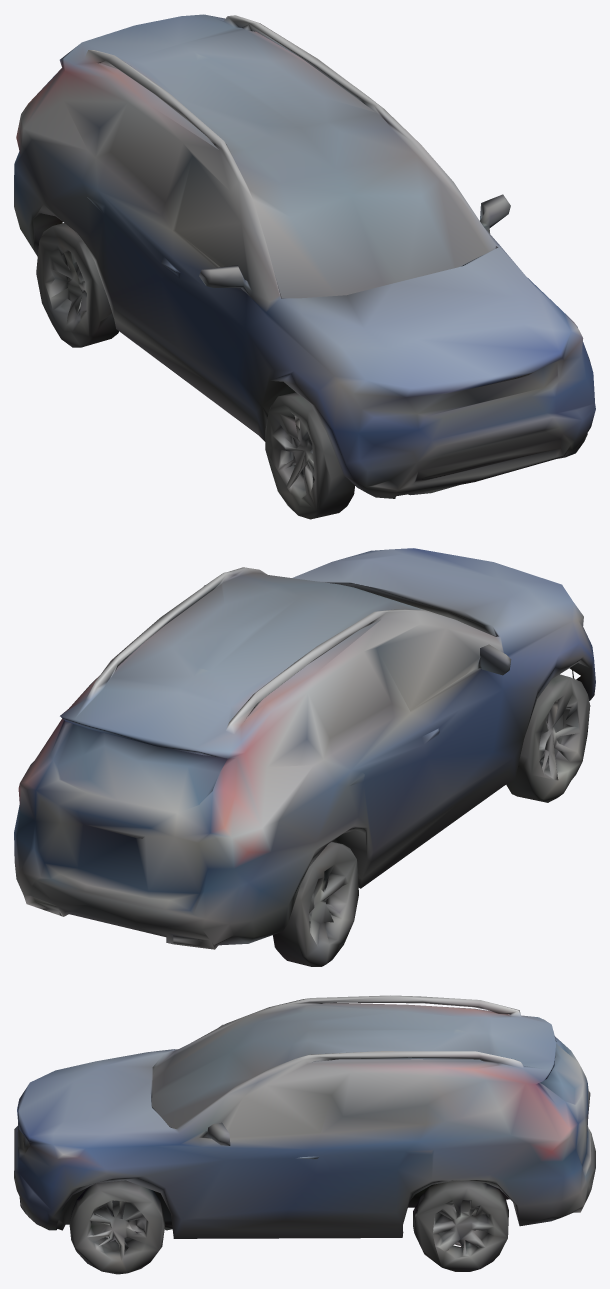
Rendered from suv_near.glb.
3 views of the same model, one above another, from view 1: azimuth 30°, elevation 25°; view 2: azimuth 150°, elevation 25°; view 3: azimuth 270°, elevation 25° (orthographic). The views are drawn at different scales.
Parts seen in each view (by area): view 1: suv; view 2: suv; view 3: suv.
Part boxes in pixels (x1=…): suv: x1=14, y1=14, x2=595, y2=519; suv: x1=14, y1=548, x2=595, y2=966; suv: x1=14, y1=995, x2=595, y2=1274.
Size of the model in its own units: 1.18 by 1 by 2.58.
